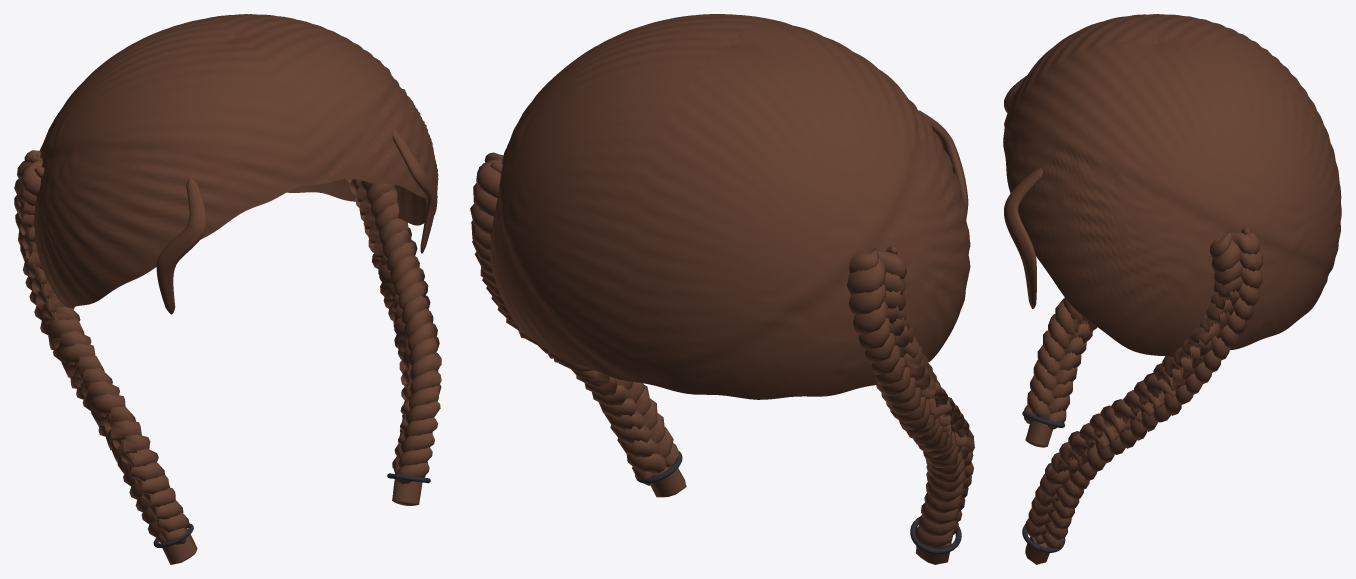
File: Feminine-twin-braids-hair.glb
3 views of the same model, side by side, from view 1: azimuth 30°, elevation 25°; view 2: azimuth 150°, elevation 25°; view 3: azimuth 270°, elevation 25° (orthographic). The views are drawn at different scales.
Visible parts, largest first — view 1: 226 hair / Hair / chestnut226; view 2: 226 hair / Hair / chestnut226, 226 hair / Hair / ties226; view 3: 226 hair / Hair / chestnut226, 226 hair / Hair / ties226.
Boxes of the visible parts, x1=… form: 226 hair / Hair / chestnut226: x1=14, y1=14, x2=441, y2=564; 226 hair / Hair / chestnut226: x1=470, y1=14, x2=974, y2=564; 226 hair / Hair / ties226: x1=635, y1=451, x2=961, y2=554; 226 hair / Hair / chestnut226: x1=1003, y1=14, x2=1341, y2=564; 226 hair / Hair / ties226: x1=1022, y1=411, x2=1065, y2=552.
Size of the model in its own units: 1.01 by 1.18 by 0.7846.
